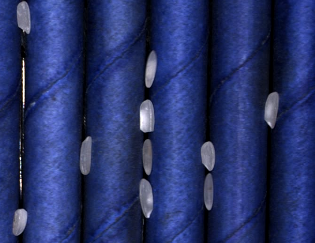broken_grain: (138, 97, 157, 136), (15, 1, 34, 37)
complete_grain: (263, 89, 282, 130), (78, 133, 94, 179), (138, 179, 155, 221), (143, 49, 158, 93), (141, 136, 156, 178), (10, 206, 29, 237), (200, 139, 216, 172)
